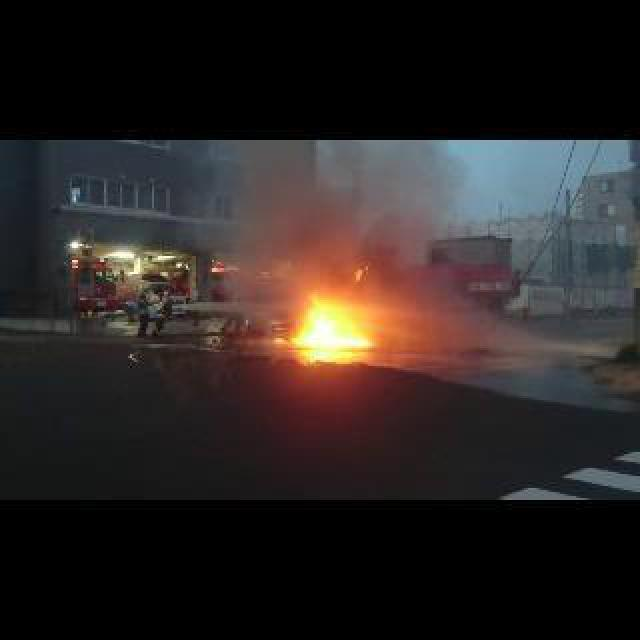Fire: (298, 306, 376, 348), (272, 338, 288, 344)
Smoke: (210, 142, 468, 296)
